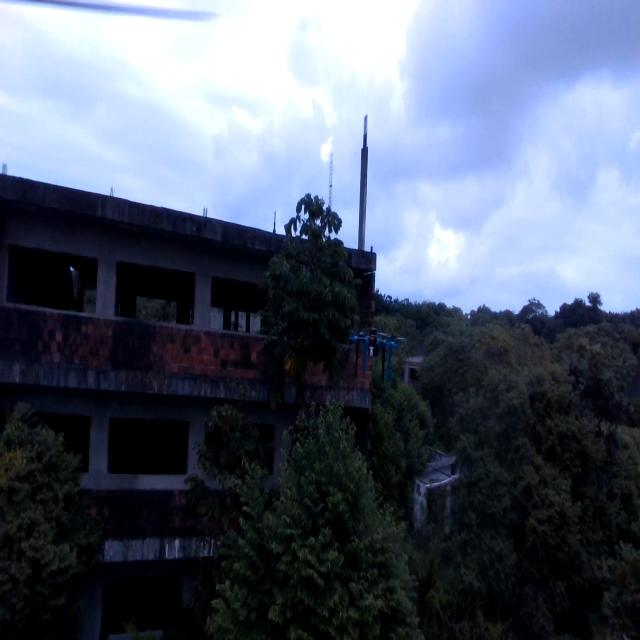-uav-: (346, 323, 406, 406)
